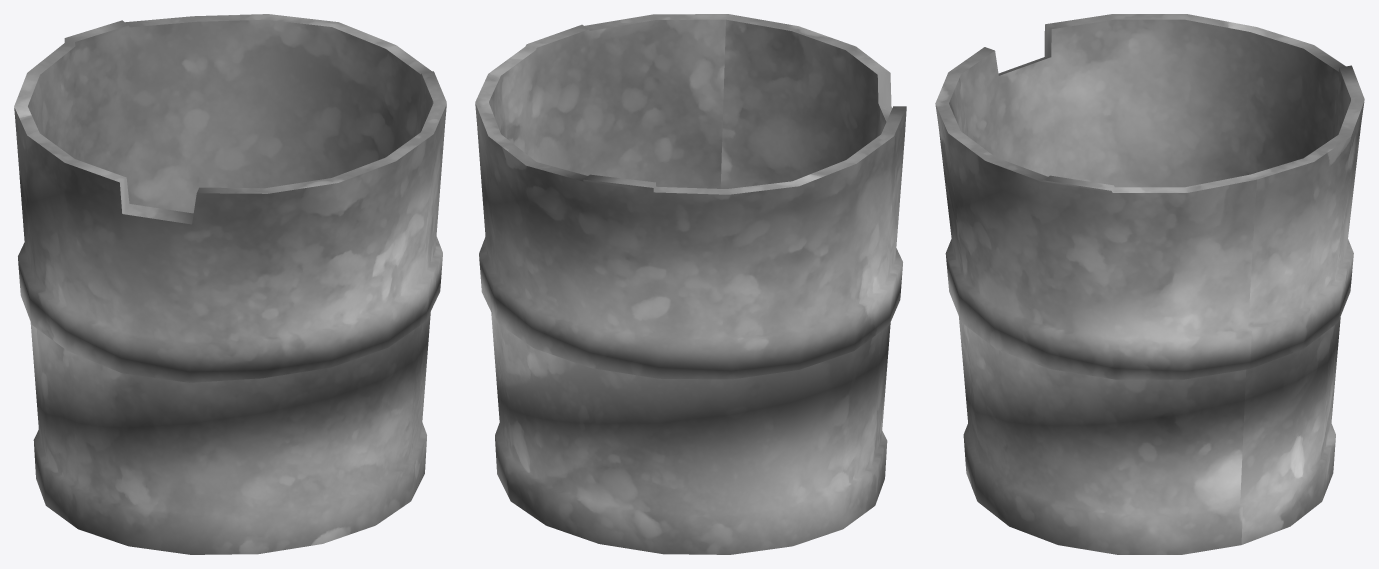
File: SM_Bucket_01a.fbx
3 views of the same model, side by side, from view 1: azimuth 30°, elevation 25°; view 2: azimuth 150°, elevation 25°; view 3: azimuth 270°, elevation 25° (orthographic).
Parts seen in each view (by area): view 1: SM_Bucket_01a_LOD0; view 2: SM_Bucket_01a_LOD0; view 3: SM_Bucket_01a_LOD0.
Part boxes in pixels (x1,y1,x2,y2): SM_Bucket_01a_LOD0: (14,14,446,554); SM_Bucket_01a_LOD0: (475,14,906,554); SM_Bucket_01a_LOD0: (935,14,1364,554).
Bounding box in the file's own units: 38.11 × 38.62 × 37.41.
